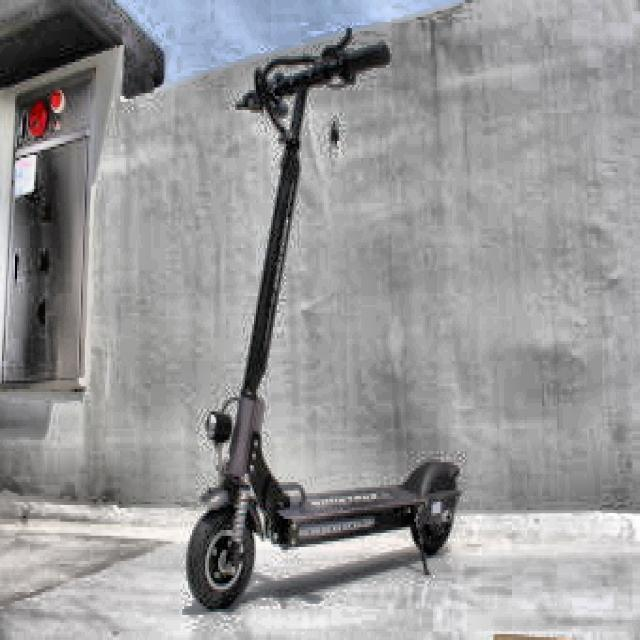bike: (184, 16, 468, 612)
